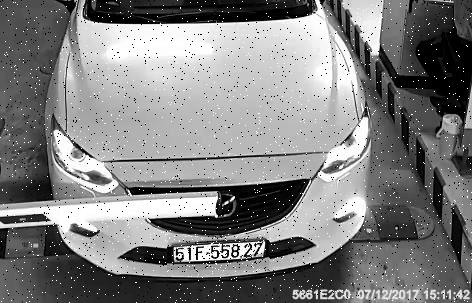License-plate: (169, 236, 272, 273)
